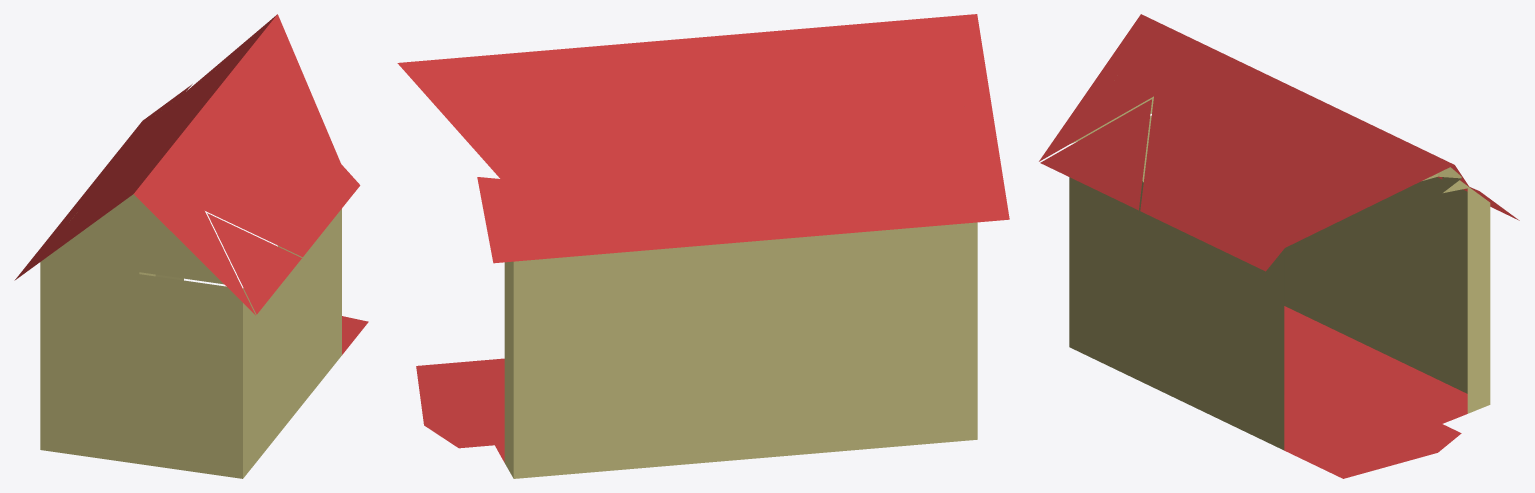
The picture shows the model from 3 angles, left to right: view 1: azimuth 30°, elevation 25°; view 2: azimuth 150°, elevation 25°; view 3: azimuth 270°, elevation 25°; orthographic projection. The views are drawn at different scales.
Bounding box in the file's own units: 22.47 × 22.02 × 14.83.
